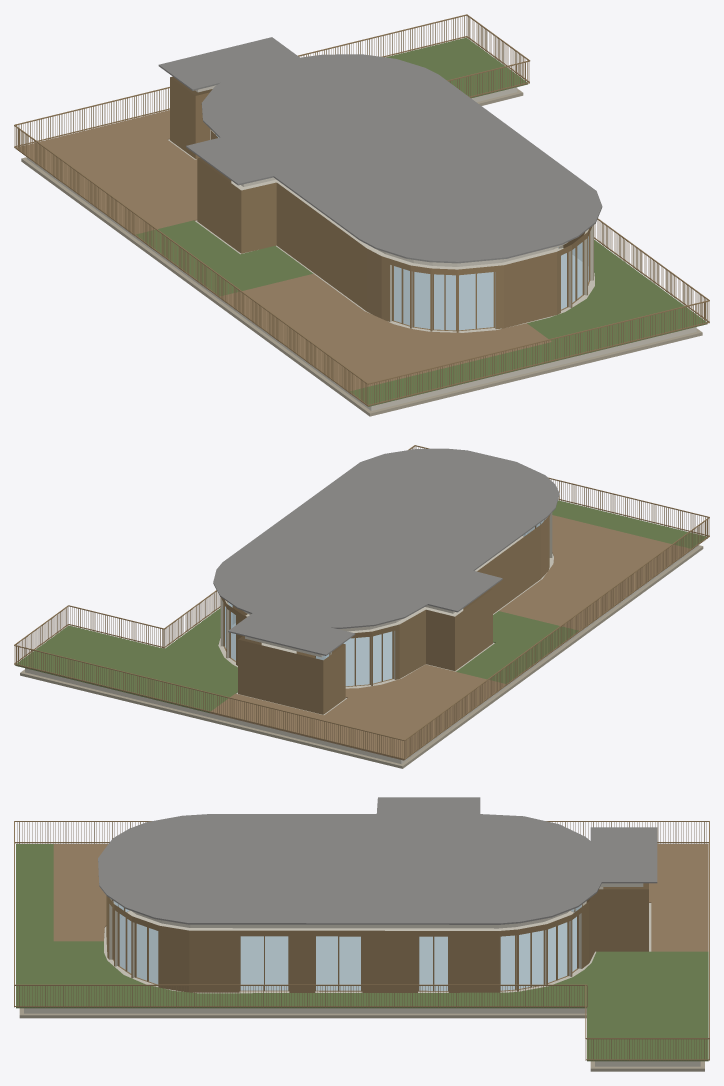
3 renders of one model, top to bottom at view 1: azimuth 30°, elevation 25°; view 2: azimuth 150°, elevation 25°; view 3: azimuth 270°, elevation 25°, orthographic. The views are drawn at different scales.
Size of the model in its own units: 22 by 4.03 by 29.74.
